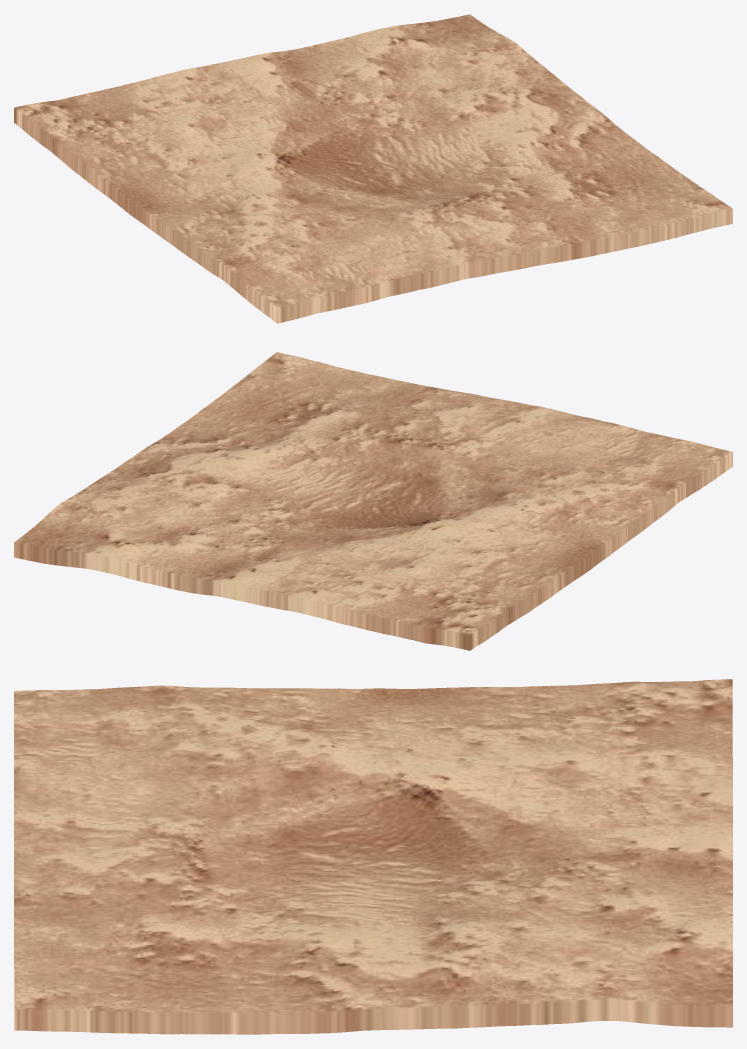
3 views of the same model, one above another, from view 1: azimuth 30°, elevation 25°; view 2: azimuth 150°, elevation 25°; view 3: azimuth 270°, elevation 25° (orthographic). The views are drawn at different scales.
Visible parts, largest first — view 1: L6_44_50; view 2: L6_44_50; view 3: L6_44_50.
Part boxes in pixels (x1=…): L6_44_50: x1=14, y1=14, x2=732, y2=323; L6_44_50: x1=14, y1=352, x2=732, y2=650; L6_44_50: x1=14, y1=679, x2=732, y2=1034.
Bounding box in the file's own units: 225 × 17.86 × 225.
1 material, 1 textured.
